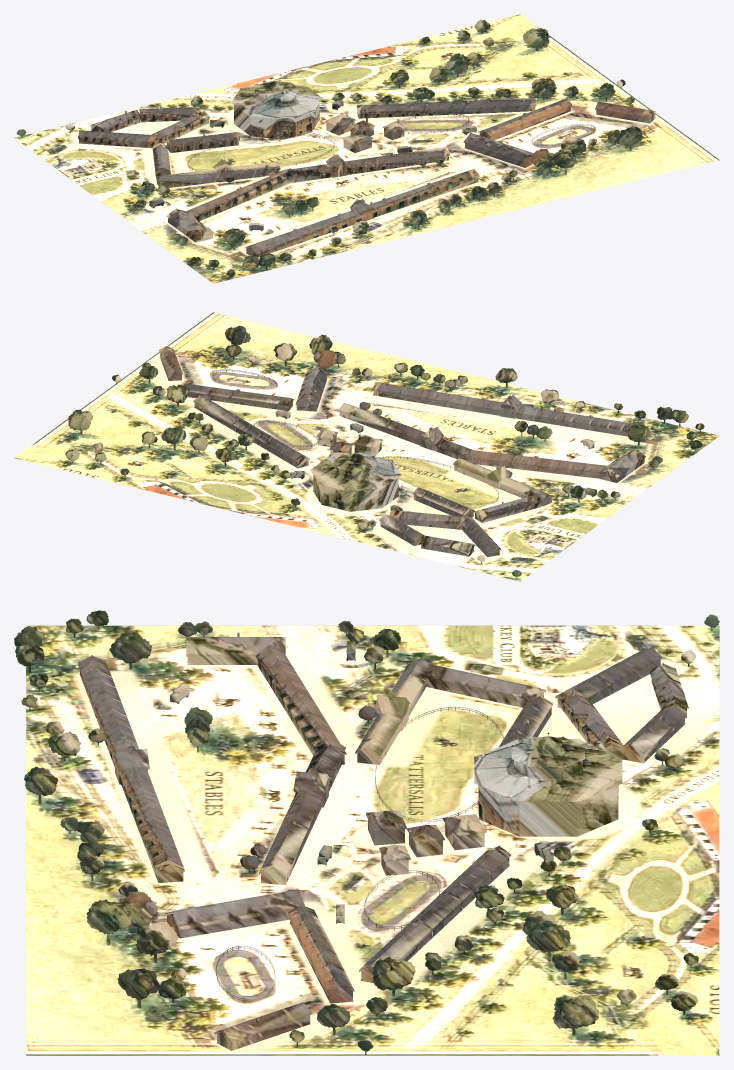
Rendered from tatts_corner.glb.
3 renders of one model, top to bottom at view 1: azimuth 30°, elevation 25°; view 2: azimuth 150°, elevation 25°; view 3: azimuth 270°, elevation 25°, orthographic. The views are drawn at different scales.
Parts seen in each view (by area): view 1: ground, trees, tattersalls_rotunda, range_yard-north, range_yard-south, range_road-range, range_paddock-south, houses, range_east-north, range_east-west, range_quad-west, range_ring-west (+8 smaller); view 2: ground, trees, tattersalls_rotunda, range_yard-north, range_yard-south, range_road-range, range_paddock-south, range_east-north, houses, range_east-west, range_quad-south, range_paddock-west (+8 smaller); view 3: ground, trees, tattersalls_rotunda, range_yard-north, range_yard-south, range_road-range, houses, range_east-west, range_paddock-south, range_east-north, range_paddock-west, range_yard-west (+8 smaller).
Boxes of the visible parts, x1=… form: ground: x1=14, y1=14, x2=719, y2=283; trees: x1=17, y1=19, x2=643, y2=278; tattersalls_rotunda: x1=231, y1=79, x2=322, y2=139; range_yard-north: x1=185, y1=147, x2=450, y2=221; range_yard-south: x1=245, y1=169, x2=479, y2=257; range_road-range: x1=356, y1=98, x2=536, y2=118; range_paddock-south: x1=156, y1=158, x2=280, y2=187; houses: x1=325, y1=111, x2=405, y2=152; range_east-north: x1=478, y1=98, x2=572, y2=140; range_east-west: x1=463, y1=133, x2=533, y2=167; range_quad-west: x1=78, y1=130, x2=158, y2=148; range_ring-west: x1=166, y1=132, x2=239, y2=152; ground: x1=14, y1=312, x2=719, y2=581; trees: x1=65, y1=325, x2=704, y2=578; tattersalls_rotunda: x1=310, y1=451, x2=401, y2=511; range_yard-north: x1=338, y1=403, x2=607, y2=478; range_yard-south: x1=372, y1=382, x2=647, y2=436; range_road-range: x1=193, y1=395, x2=309, y2=468; range_paddock-south: x1=453, y1=457, x2=553, y2=506; range_east-north: x1=184, y1=383, x2=293, y2=410; houses: x1=316, y1=427, x2=382, y2=456; range_east-west: x1=295, y1=367, x2=327, y2=411; range_quad-south: x1=389, y1=510, x2=469, y2=529; range_paddock-west: x1=474, y1=494, x2=541, y2=522; ground: x1=26, y1=625, x2=719, y2=1055; trees: x1=14, y1=610, x2=719, y2=1054; tattersalls_rotunda: x1=474, y1=732, x2=622, y2=836; range_yard-north: x1=256, y1=644, x2=346, y2=884; range_yard-south: x1=78, y1=655, x2=184, y2=882; range_road-range: x1=359, y1=845, x2=511, y2=983; houses: x1=366, y1=810, x2=486, y2=875; range_east-west: x1=165, y1=889, x2=304, y2=938; range_paddock-south: x1=355, y1=657, x2=432, y2=764; range_east-north: x1=288, y1=904, x2=354, y2=1003; range_paddock-west: x1=425, y1=664, x2=545, y2=707; range_yard-west: x1=186, y1=632, x2=285, y2=664.
Size of what is drawn, in the model's own units: 267 by 21.37 by 183.
19 materials, 19 textured.
